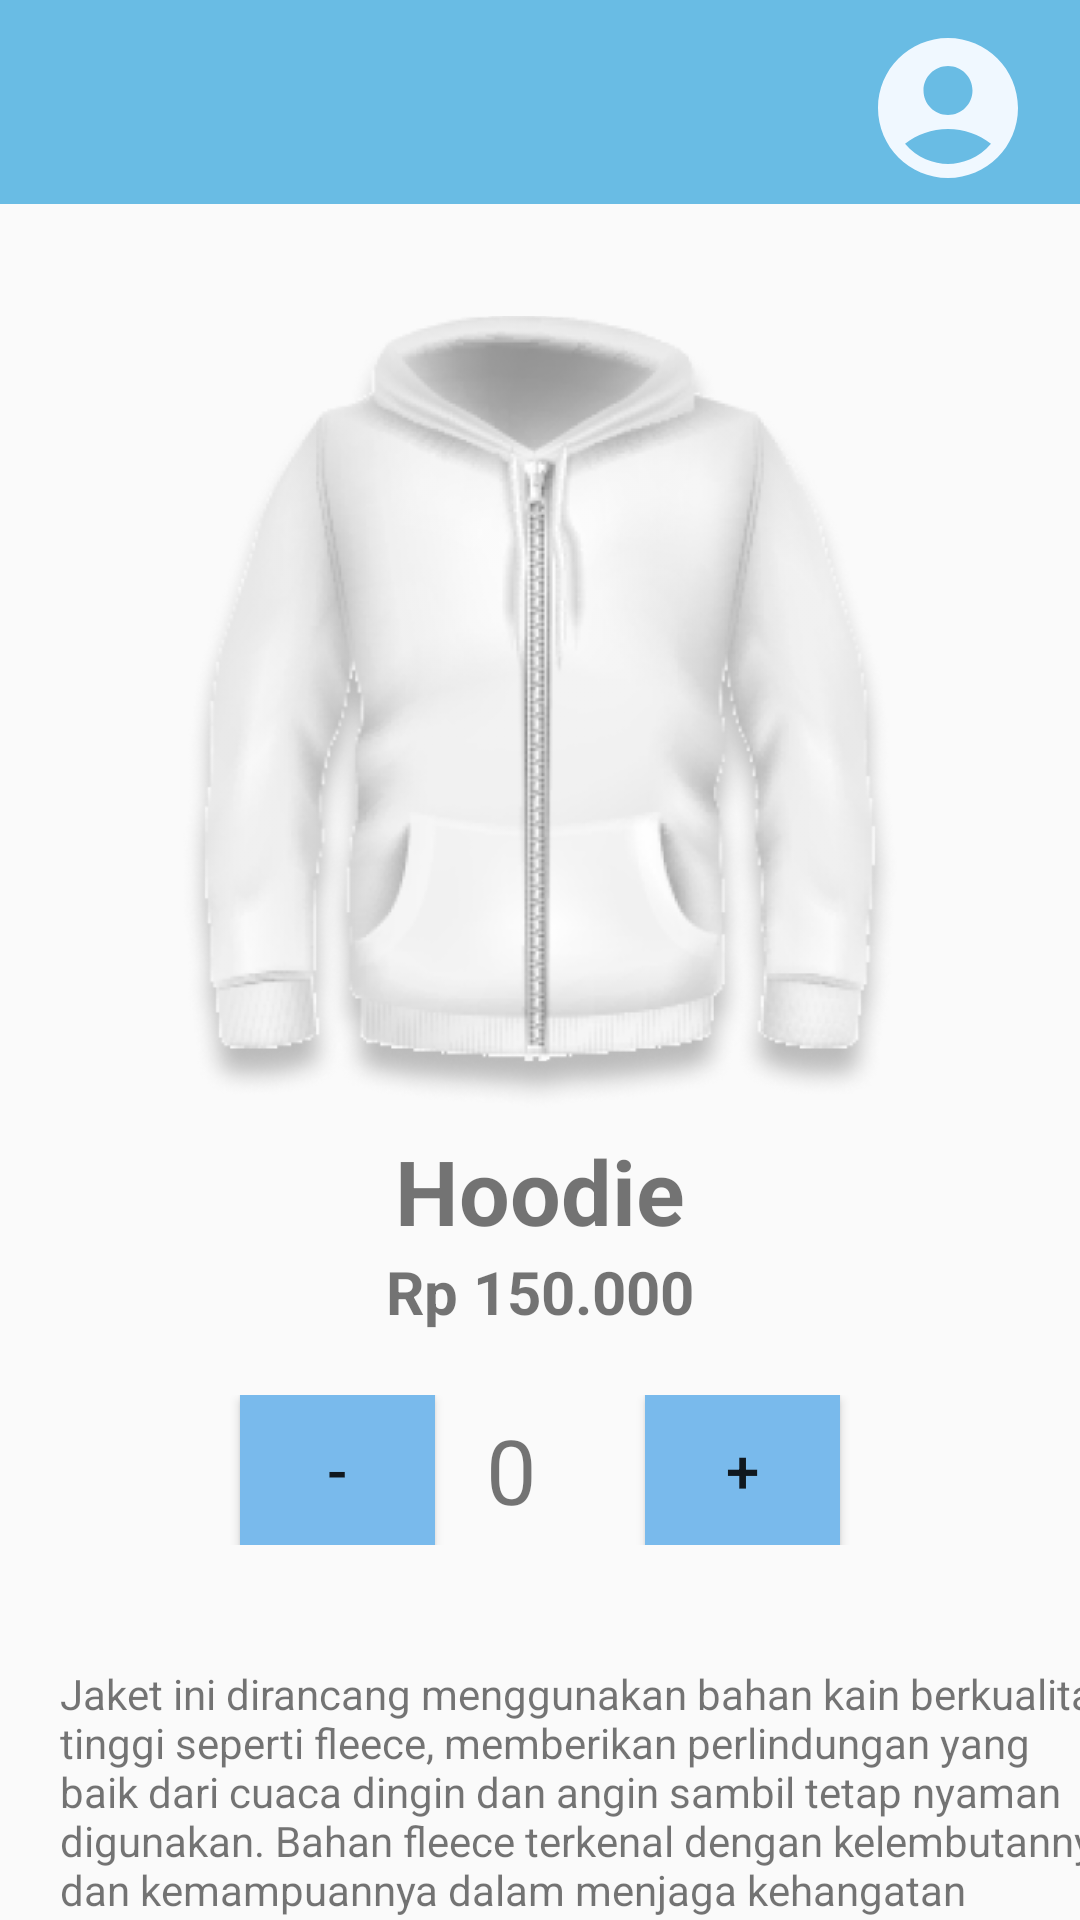

Icons on this 1080px x 1920px Android screen, each with its box as (x1, y1, x2, y2):
account circle: (878, 38, 1018, 178)
